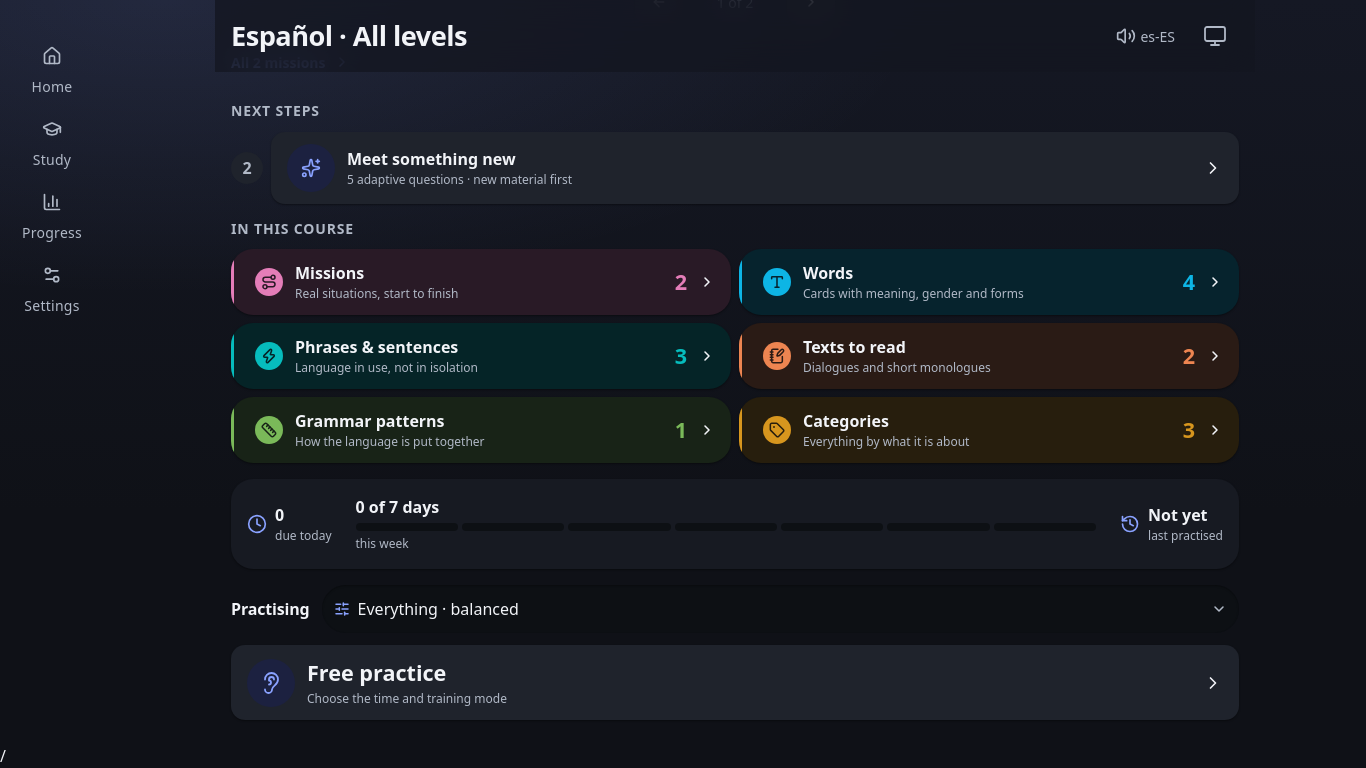
Test: the practising summary › keeps the panel out of the tree until it is opened
(page scrolled)
Expected: the heading "Español · All levels" is shown, [231,17,467,54]
Expected: the element "Lead with" is not shown
What coordinates should you click on to do the following:
click the button named "Change what to practise"
I would click on:
 (427, 621)
Its box is [322,585,1239,633].
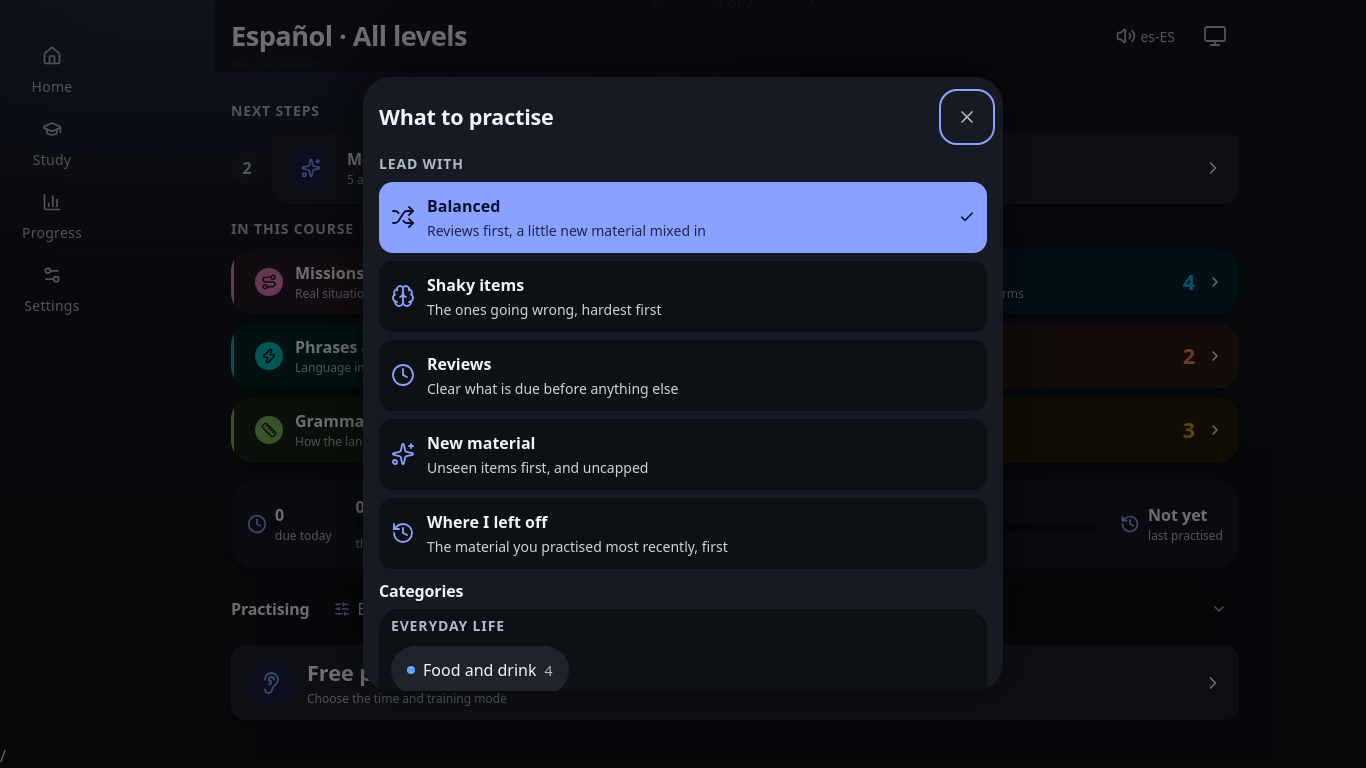
Now the button named "Change what to practise" is expanded, box [322,585,1239,633]
Now the element "Lead with" is shown, box [379,153,987,569]
